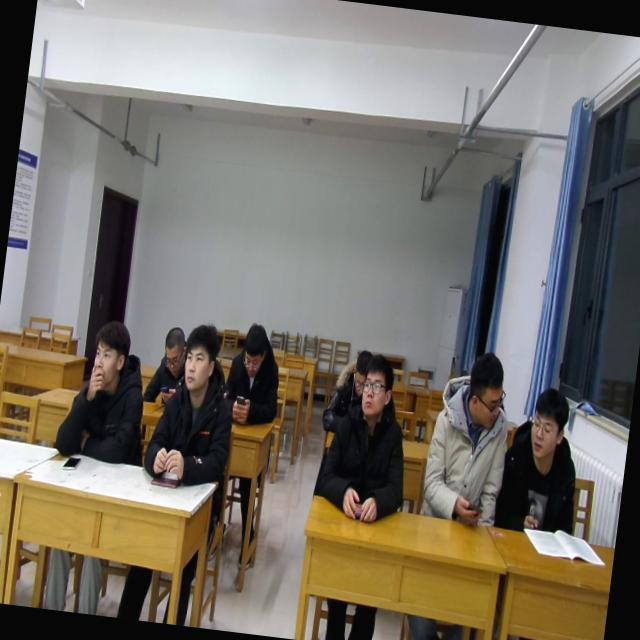bow: (220, 318, 288, 432), (319, 344, 375, 439)
down: (238, 316, 272, 378), (159, 322, 188, 376), (346, 345, 373, 399)
lookup: (520, 380, 575, 465), (86, 316, 135, 394), (177, 320, 225, 395), (356, 349, 398, 422)
sit: (414, 344, 520, 533), (312, 348, 419, 528), (138, 317, 244, 491), (52, 312, 156, 468), (494, 384, 592, 540), (141, 322, 192, 405)
